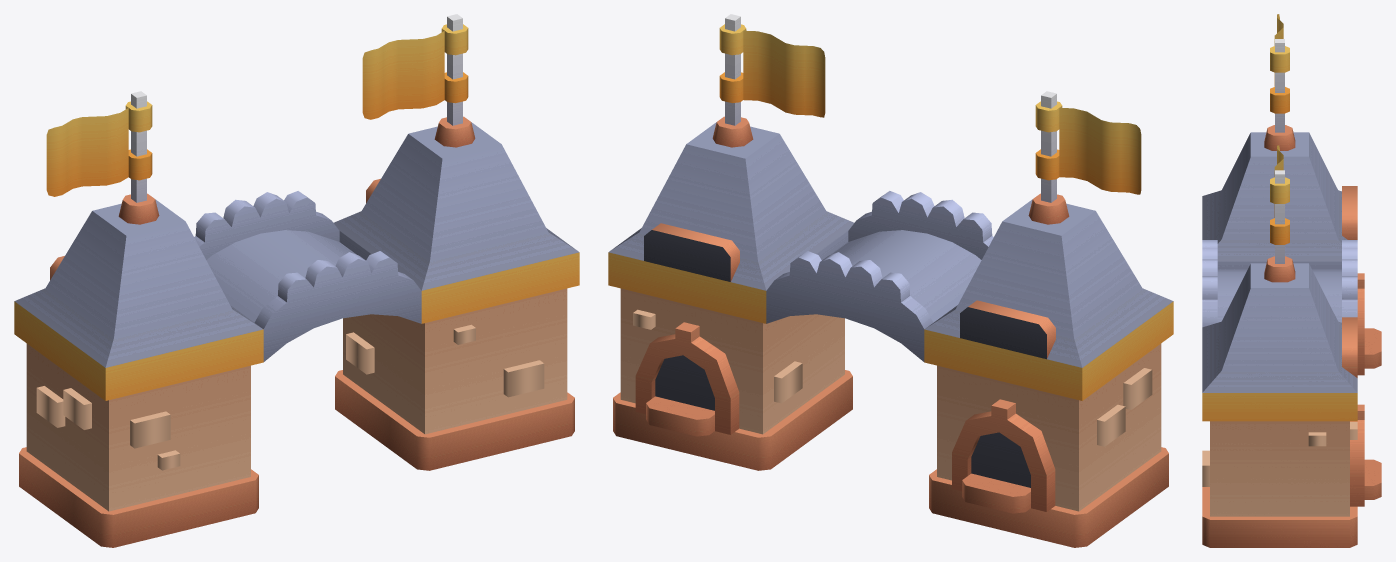
Rendered from park_entrance.glb.
The picture shows the model from 3 angles, left to right: view 1: azimuth 30°, elevation 25°; view 2: azimuth 150°, elevation 25°; view 3: azimuth 270°, elevation 25°; orthographic projection. The views are drawn at different scales.
Visible parts, largest first — view 1: park-entrance; view 2: park-entrance; view 3: park-entrance.
Boxes of the visible parts, x1=… form: park-entrance: x1=14, y1=14, x2=579, y2=547; park-entrance: x1=608, y1=14, x2=1173, y2=547; park-entrance: x1=1202, y1=14, x2=1381, y2=547.
Size of the model in its own units: 3.09 by 2.43 by 1.16.
Materials: 1 (1 with a texture image).
